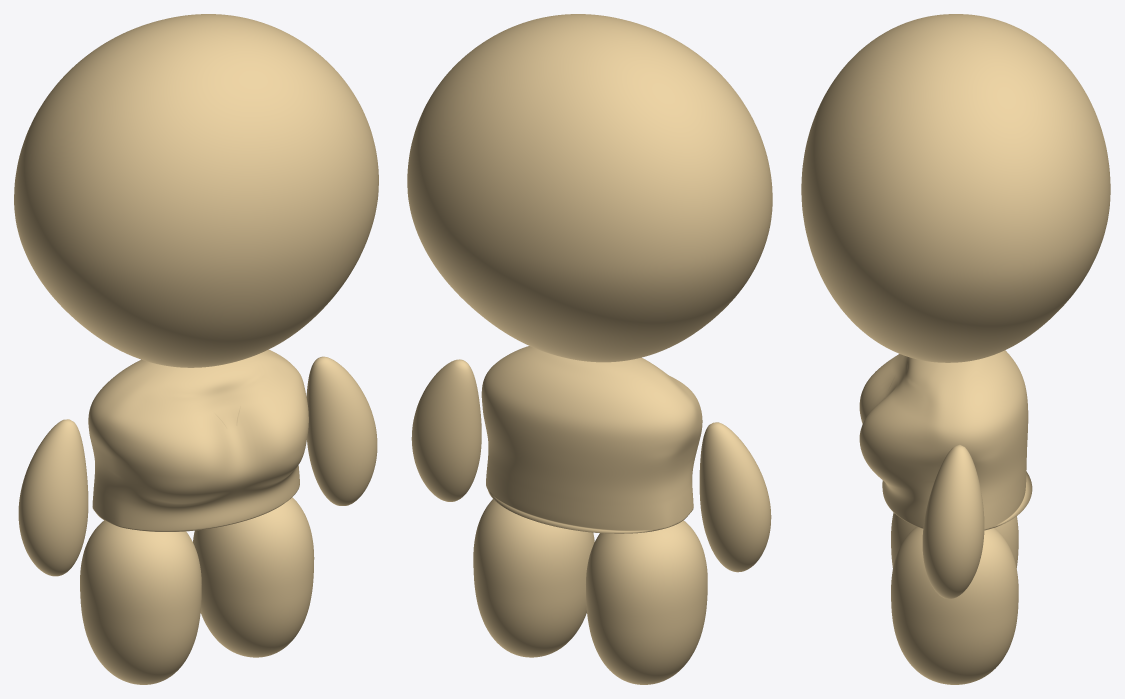
File: Feminine-base.glb
The picture shows the model from 3 angles, left to right: view 1: azimuth 30°, elevation 25°; view 2: azimuth 150°, elevation 25°; view 3: azimuth 270°, elevation 25°; orthographic projection. The views are drawn at different scales.
Visible parts, largest first — view 1: Skin / soft oval head, Skin / rounded torso, Skin / leg blob -1, Skin / leg blob 1, Skin / swept arm -1, Skin / swept arm 1; view 2: Skin / soft oval head, Skin / rounded torso, Skin / leg blob -1, Skin / leg blob 1, Skin / swept arm -1, Skin / swept arm 1; view 3: Skin / soft oval head, Skin / rounded torso, Skin / leg blob 1, Skin / swept arm 1, Skin / leg blob -1.
Part boxes in pixels (x1=…): Skin / soft oval head: x1=14, y1=14, x2=378, y2=367; Skin / rounded torso: x1=88, y1=349, x2=308, y2=531; Skin / leg blob -1: x1=80, y1=520, x2=201, y2=684; Skin / leg blob 1: x1=193, y1=497, x2=314, y2=657; Skin / swept arm -1: x1=18, y1=419, x2=88, y2=576; Skin / swept arm 1: x1=306, y1=356, x2=377, y2=505; Skin / soft oval head: x1=407, y1=14, x2=772, y2=362; Skin / rounded torso: x1=481, y1=346, x2=702, y2=533; Skin / leg blob -1: x1=586, y1=520, x2=707, y2=684; Skin / leg blob 1: x1=473, y1=499, x2=594, y2=657; Skin / swept arm -1: x1=699, y1=422, x2=771, y2=572; Skin / swept arm 1: x1=411, y1=359, x2=481, y2=501; Skin / soft oval head: x1=801, y1=14, x2=1110, y2=362; Skin / rounded torso: x1=859, y1=350, x2=1032, y2=530; Skin / leg blob 1: x1=891, y1=526, x2=1018, y2=684; Skin / swept arm 1: x1=922, y1=444, x2=984, y2=598; Skin / leg blob -1: x1=891, y1=512, x2=1018, y2=567.
Bounding box in the file's own units: 1.04 × 1.8 × 0.81.
